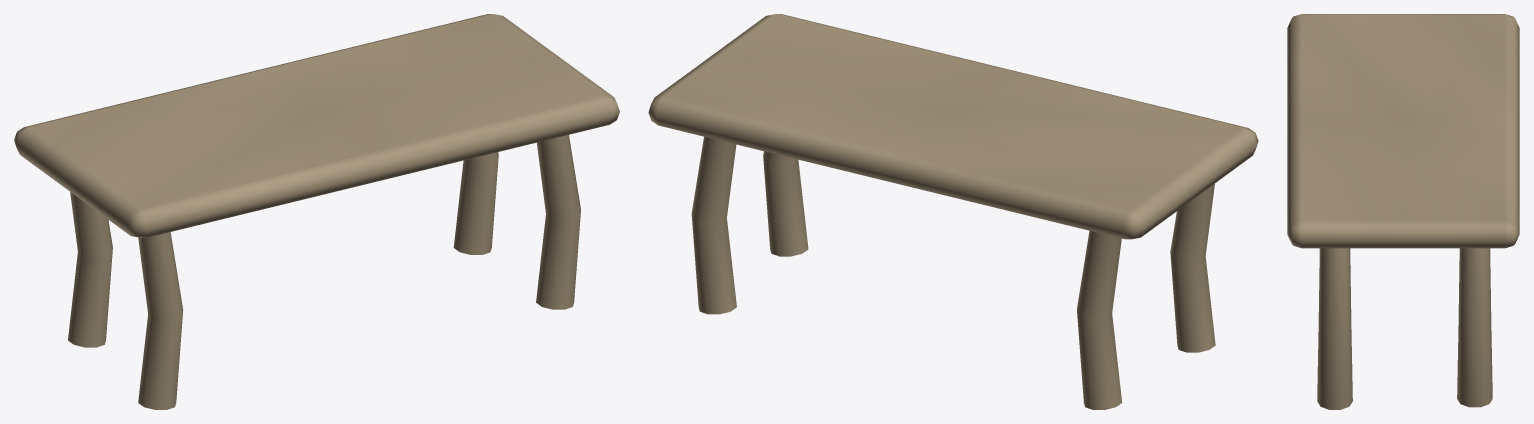
The model's file is furn_driftwood_table.glb.
3 renders of one model, left to right at view 1: azimuth 30°, elevation 25°; view 2: azimuth 150°, elevation 25°; view 3: azimuth 270°, elevation 25°, orthographic. The views are drawn at different scales.
Visible parts, largest first — view 1: furn_driftwood_table_main; view 2: furn_driftwood_table_main; view 3: furn_driftwood_table_main.
Part boxes in pixels (x1=…): furn_driftwood_table_main: x1=14, y1=14, x2=619, y2=409; furn_driftwood_table_main: x1=648, y1=14, x2=1258, y2=409; furn_driftwood_table_main: x1=1287, y1=14, x2=1519, y2=409.
Bounding box in the file's own units: 1.74 × 0.7257 × 0.78.
